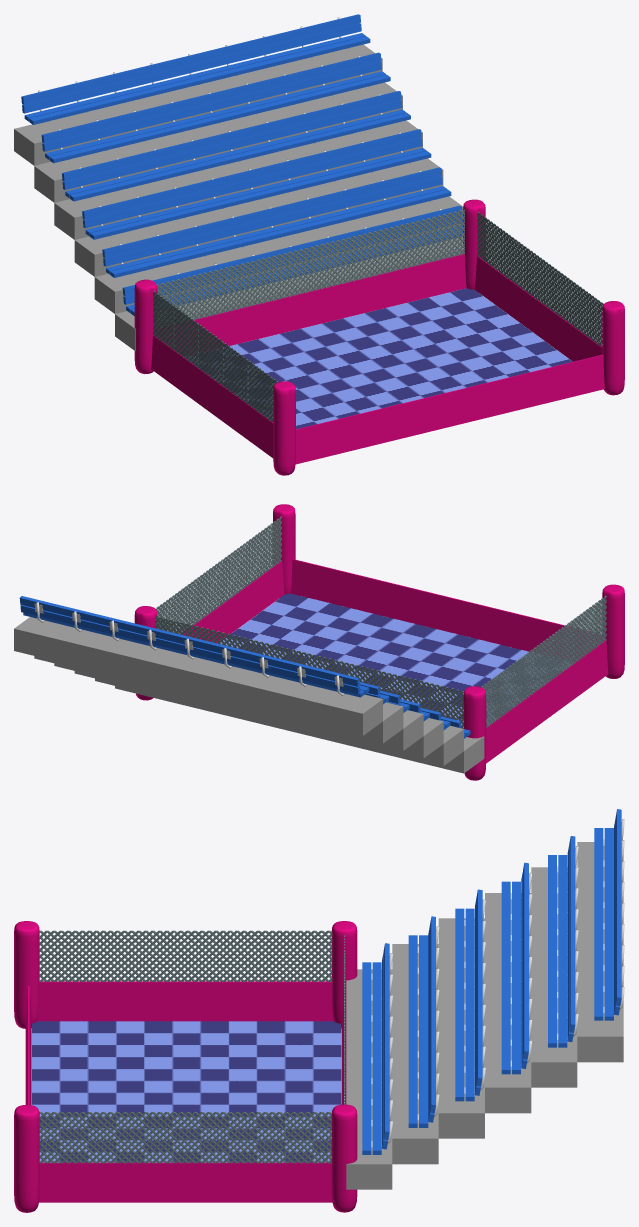
Rendered from mappack.glb.
3 renders of one model, top to bottom at view 1: azimuth 30°, elevation 25°; view 2: azimuth 150°, elevation 25°; view 3: azimuth 270°, elevation 25°, orthographic. The views are drawn at different scales.
Parts seen in each view (by area): view 1: seats, walls, floor, board, fence; view 2: floor, walls, board, fence, seats; view 3: seats, walls, board, floor, fence.
Part boxes in pixels (box(x1,y1,x2,y2)): seats: box(21, 14, 462, 315); walls: box(134, 199, 624, 475); floor: box(14, 44, 463, 350); board: box(189, 288, 572, 429); fence: box(153, 209, 603, 422); floor: box(14, 617, 484, 773); walls: box(134, 504, 624, 780); board: box(220, 593, 570, 727); fence: box(155, 516, 606, 728); seats: box(19, 596, 470, 738); seats: box(362, 809, 624, 1154); walls: box(14, 921, 357, 1212); board: box(32, 1021, 341, 1162); floor: box(346, 842, 623, 1189); fence: box(39, 930, 345, 1163).
Size of the model in its own units: 32.78 by 16.98 by 43.42.
Materials: 6 (2 with a texture image).
